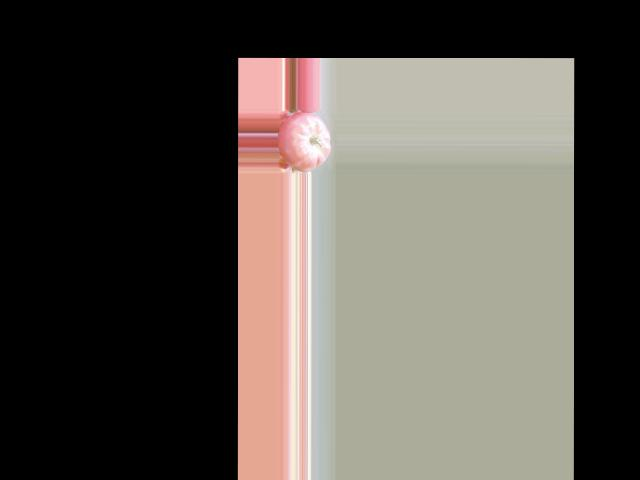tomato: (277, 112, 330, 172)
